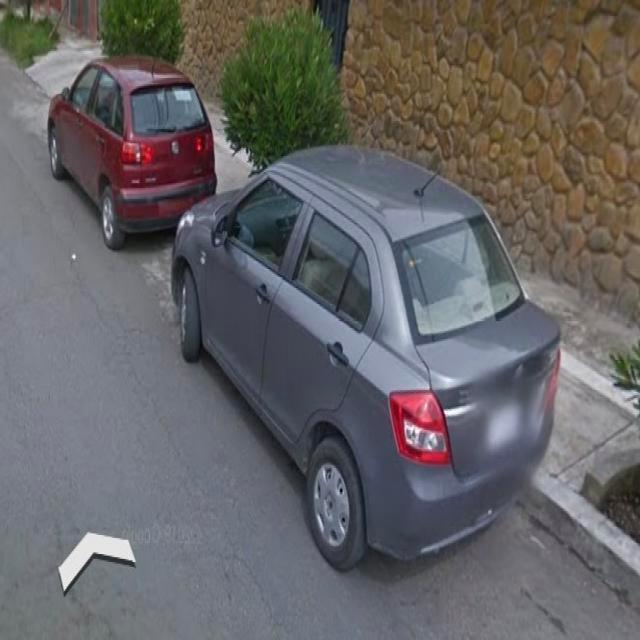Car: (178, 164, 560, 581), (48, 46, 203, 239)
